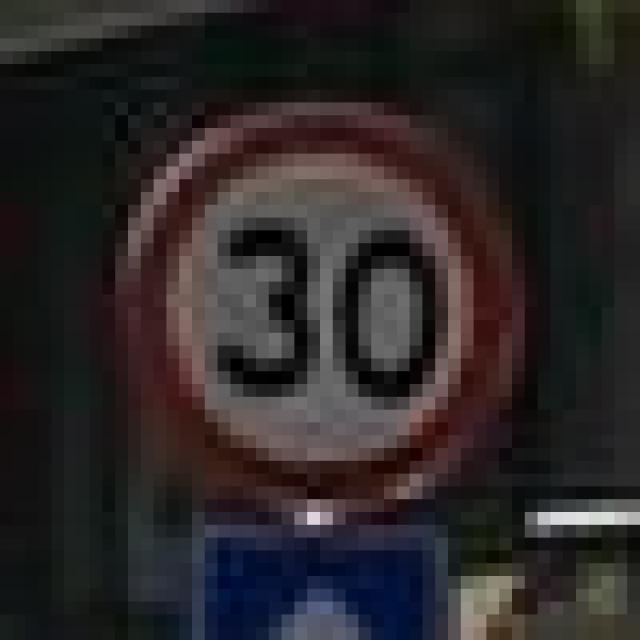SPEED_LIMIT_30: (102, 64, 512, 512)
